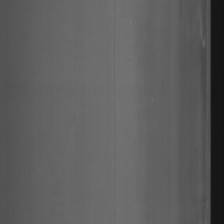silk_spot: (194, 7, 209, 52)
